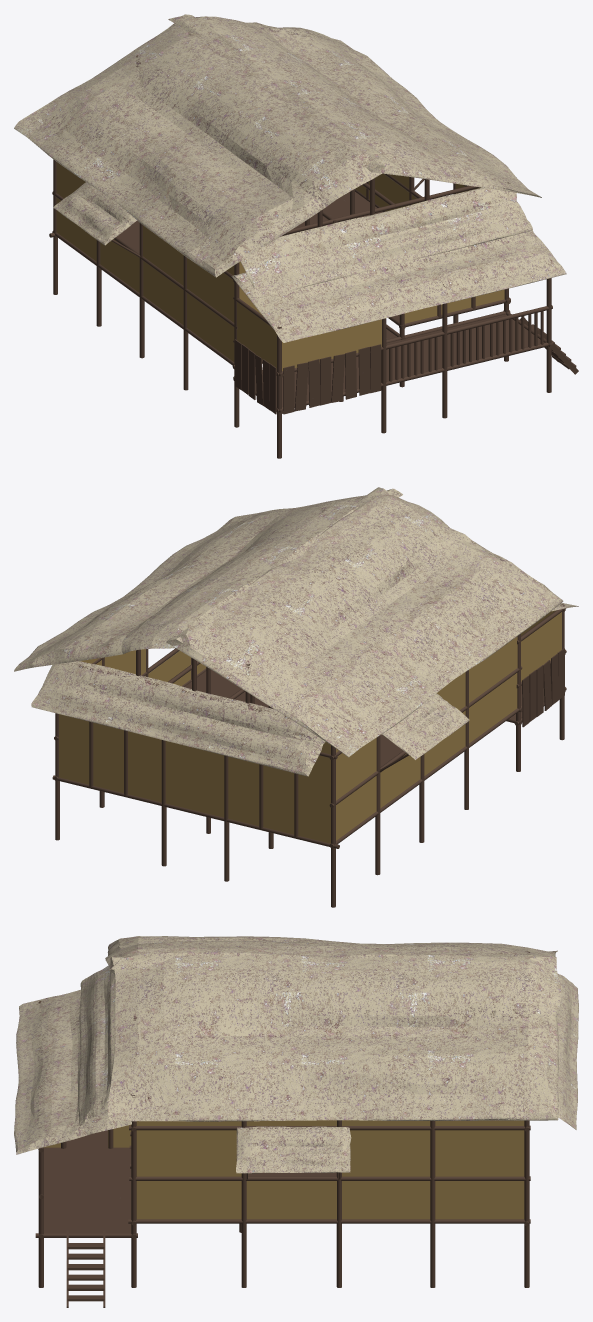
The picture shows the model from 3 angles, top to bottom: view 1: azimuth 30°, elevation 25°; view 2: azimuth 150°, elevation 25°; view 3: azimuth 270°, elevation 25°; orthographic projection. The views are drawn at different scales.
Visible parts, largest first — view 1: 5; view 2: 5; view 3: 5.
Part boxes in pixels (x1,y1,x2,y2): 5: (14, 14, 578, 458); 5: (14, 487, 578, 907); 5: (14, 936, 578, 1307).
Bounding box in the file's own units: 28.31 × 18.49 × 35.85.
6 materials, 6 textured.
